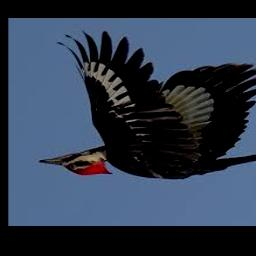Woodpecker: (40, 32, 256, 180)
